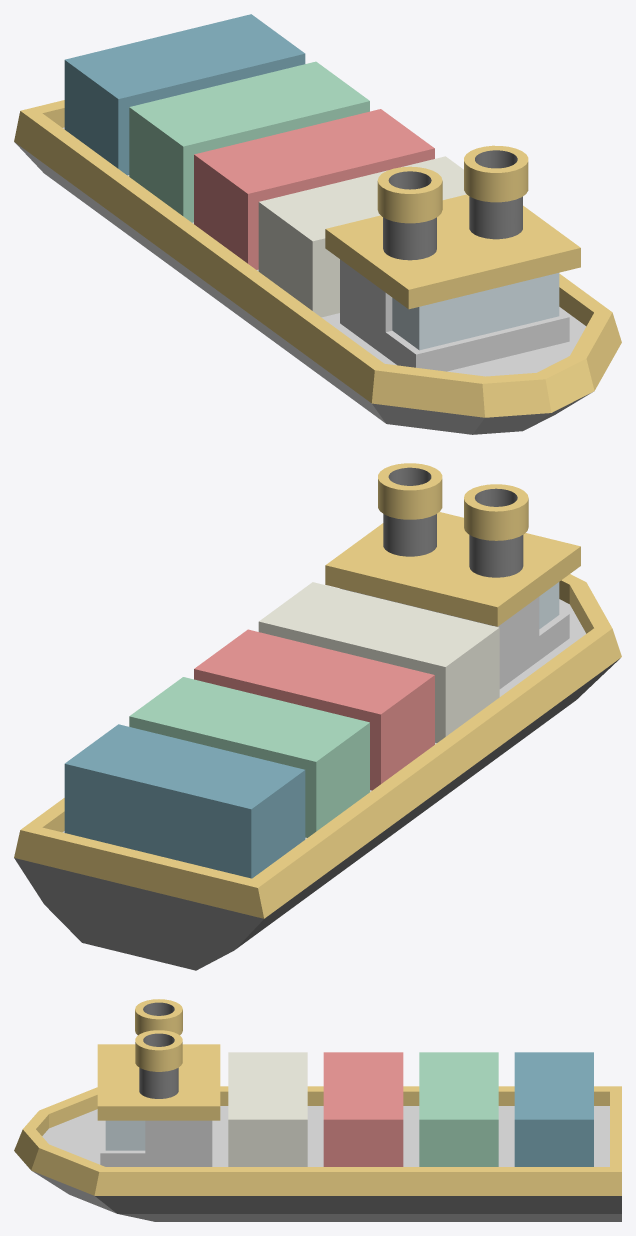
File: watercraftPack_006.glb
3 renders of one model, top to bottom at view 1: azimuth 30°, elevation 25°; view 2: azimuth 150°, elevation 25°; view 3: azimuth 270°, elevation 25°, orthographic. The views are drawn at different scales.
Parts seen in each view (by area): view 1: Mesh5 Group1 Model, Mesh1 Container_4 Group1 Model, Mesh3 Container_2 Group1 Model, Mesh4 Container_3 Group1 Model, Mesh2 Container_1 Group1 Model; view 2: Mesh5 Group1 Model, Mesh1 Container_4 Group1 Model, Mesh2 Container_1 Group1 Model, Mesh3 Container_2 Group1 Model, Mesh4 Container_3 Group1 Model; view 3: Mesh5 Group1 Model, Mesh3 Container_2 Group1 Model, Mesh1 Container_4 Group1 Model, Mesh2 Container_1 Group1 Model, Mesh4 Container_3 Group1 Model.
Boxes of the visible parts, box(x1,y1,x2,y2) form: Mesh5 Group1 Model: box(14, 100, 621, 434); Mesh1 Container_4 Group1 Model: box(64, 14, 305, 175); Mesh3 Container_2 Group1 Model: box(194, 109, 434, 269); Mesh4 Container_3 Group1 Model: box(129, 61, 369, 222); Mesh2 Container_1 Group1 Model: box(258, 156, 466, 317); Mesh5 Group1 Model: box(14, 463, 621, 970); Mesh1 Container_4 Group1 Model: box(64, 724, 305, 878); Mesh2 Container_1 Group1 Model: box(258, 582, 499, 742); Mesh3 Container_2 Group1 Model: box(194, 629, 434, 790); Mesh4 Container_3 Group1 Model: box(129, 677, 369, 837); Mesh5 Group1 Model: box(14, 999, 621, 1221); Mesh3 Container_2 Group1 Model: box(323, 1052, 403, 1166); Mesh1 Container_4 Group1 Model: box(514, 1052, 593, 1166); Mesh2 Container_1 Group1 Model: box(228, 1052, 307, 1166); Mesh4 Container_3 Group1 Model: box(419, 1052, 498, 1166).
Size of the model in its own units: 3.69 by 3.38 by 10.55.
